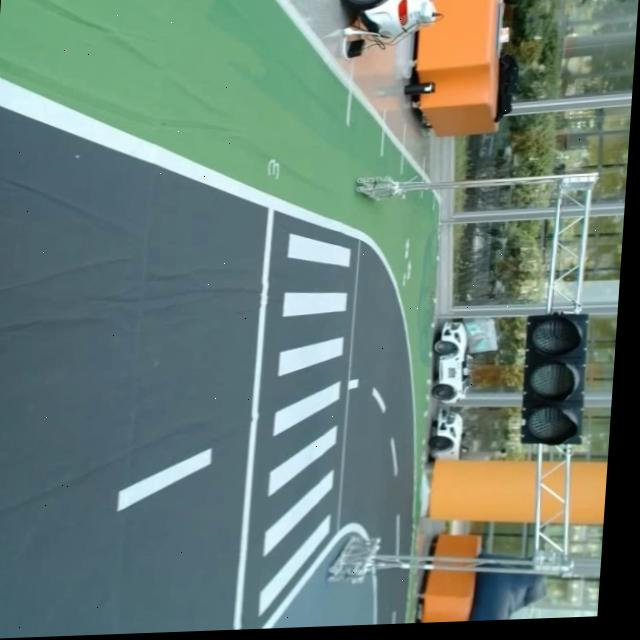traffic-light: (518, 310, 589, 445)
